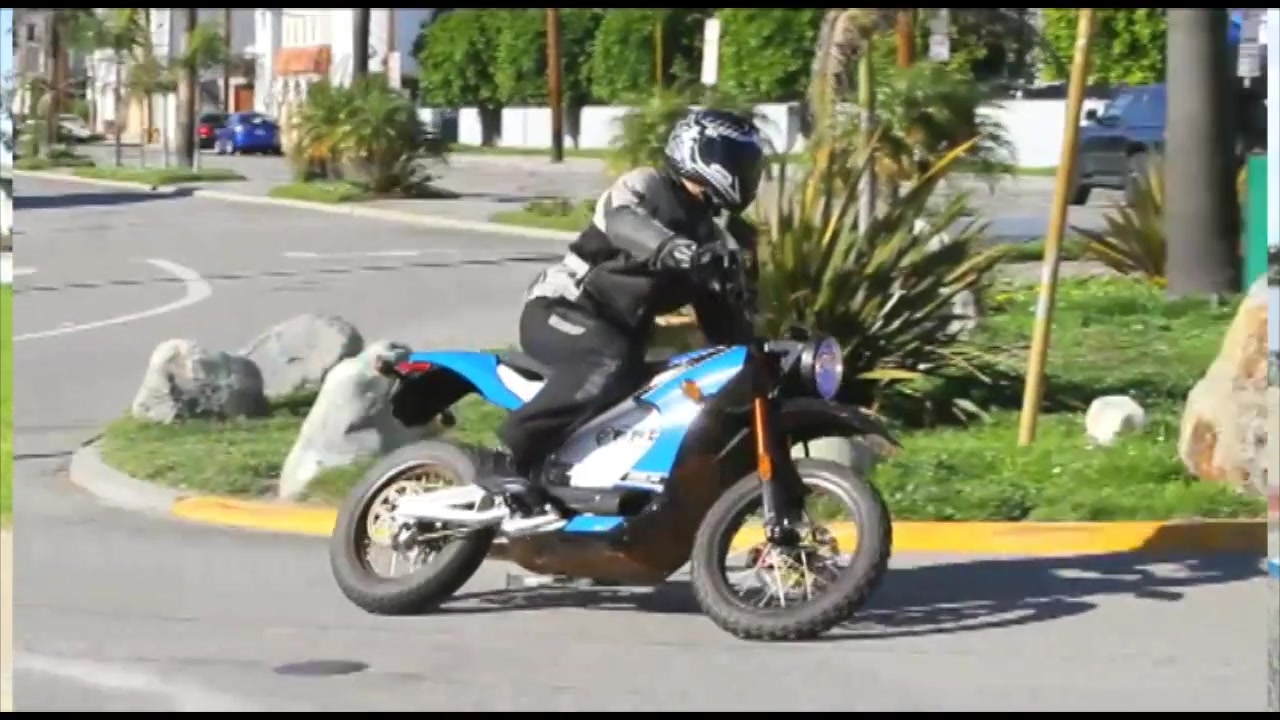motorbike: (327, 247, 898, 645)
